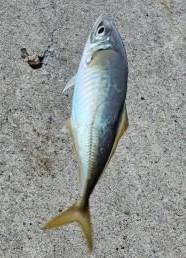fish: (40, 15, 130, 253)
